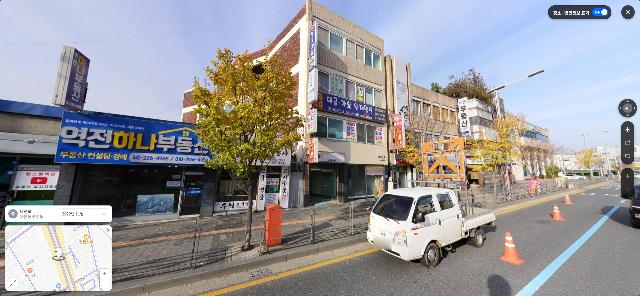ginkgo: (188, 39, 305, 253), (464, 113, 527, 201), (390, 118, 454, 186)
other: (431, 68, 493, 105), (518, 137, 568, 180)
